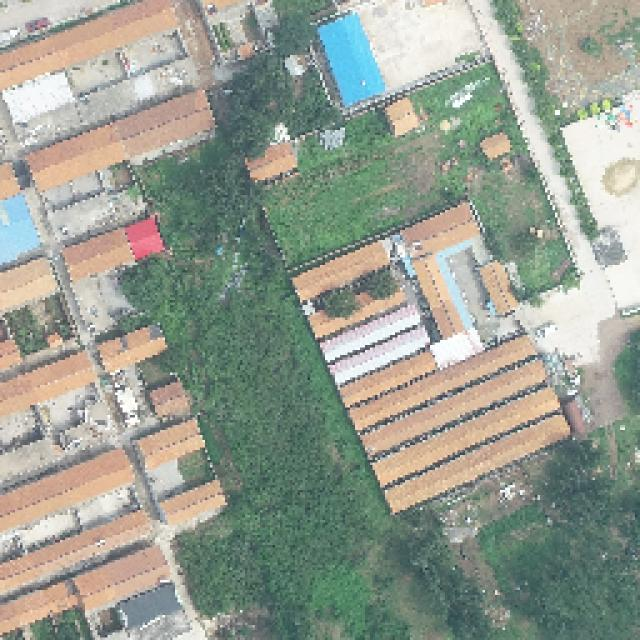Batiment: (28, 92, 215, 191), (2, 0, 174, 91), (3, 513, 146, 593), (2, 452, 131, 532), (1, 353, 93, 416), (77, 549, 168, 611), (293, 244, 387, 301), (2, 581, 77, 634), (62, 229, 135, 282), (138, 419, 205, 469), (0, 258, 58, 312), (98, 326, 166, 372), (159, 480, 226, 524), (129, 219, 164, 256)
